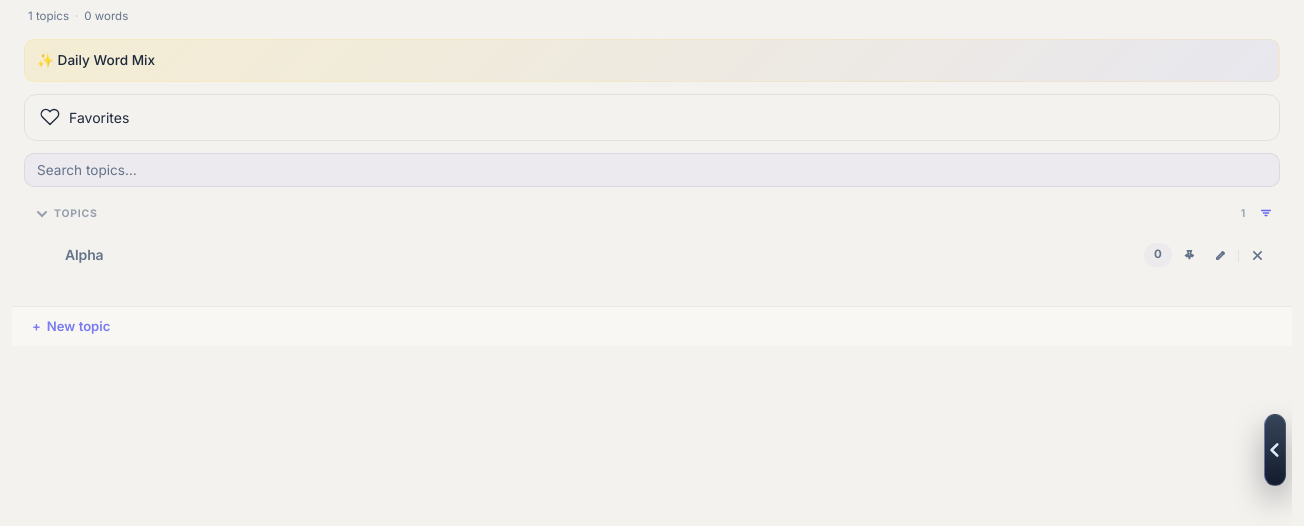
Test: TopicSidebar cache invalidation › shows backend topic-create conflict details instead of flattening them to a generic message
Click the button with aria-label "Create topic".
click(79, 326)  # box 12,307 -> 1292,346
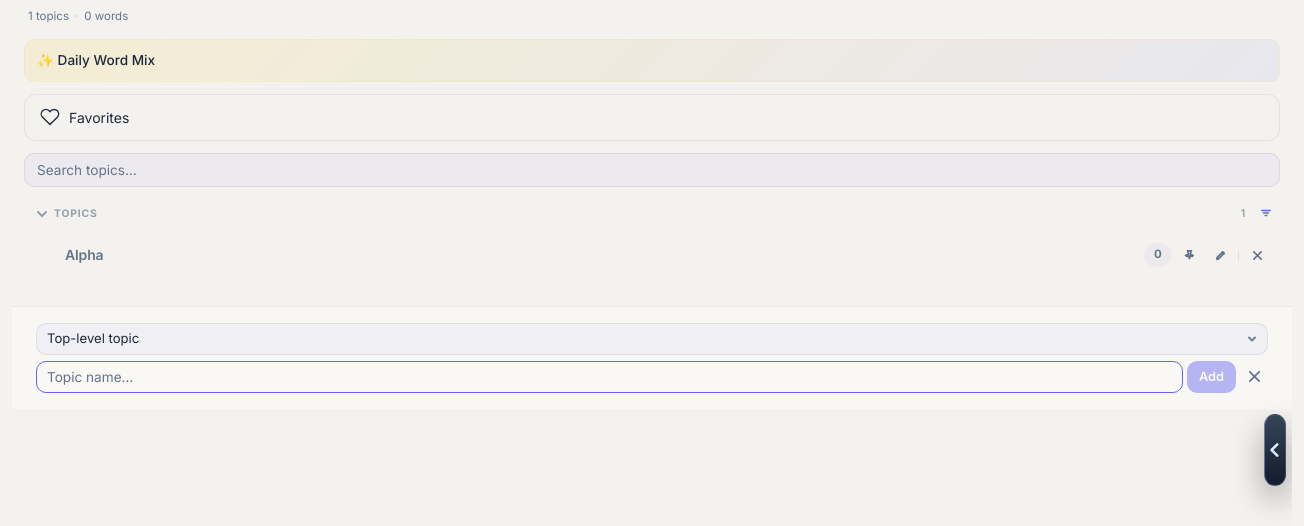
Type "Inbox" into the field with placeholder "Topic name…".
click(609, 377); type("Inbox")  # box 36,361 -> 1183,393
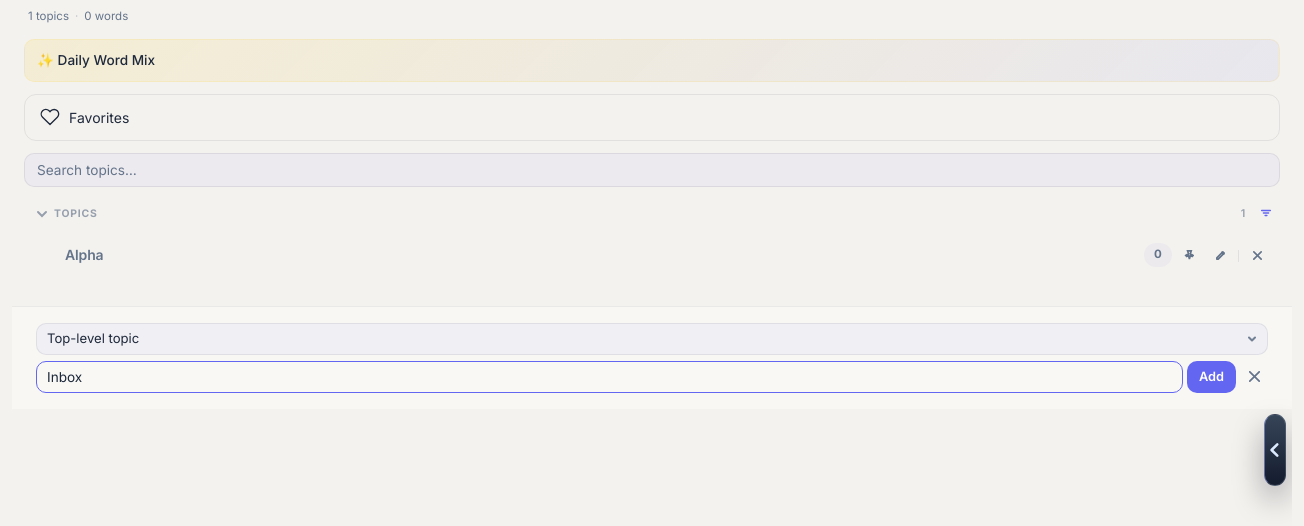
Click the button "Add".
click(1211, 377)  # box 1187,361 -> 1236,393
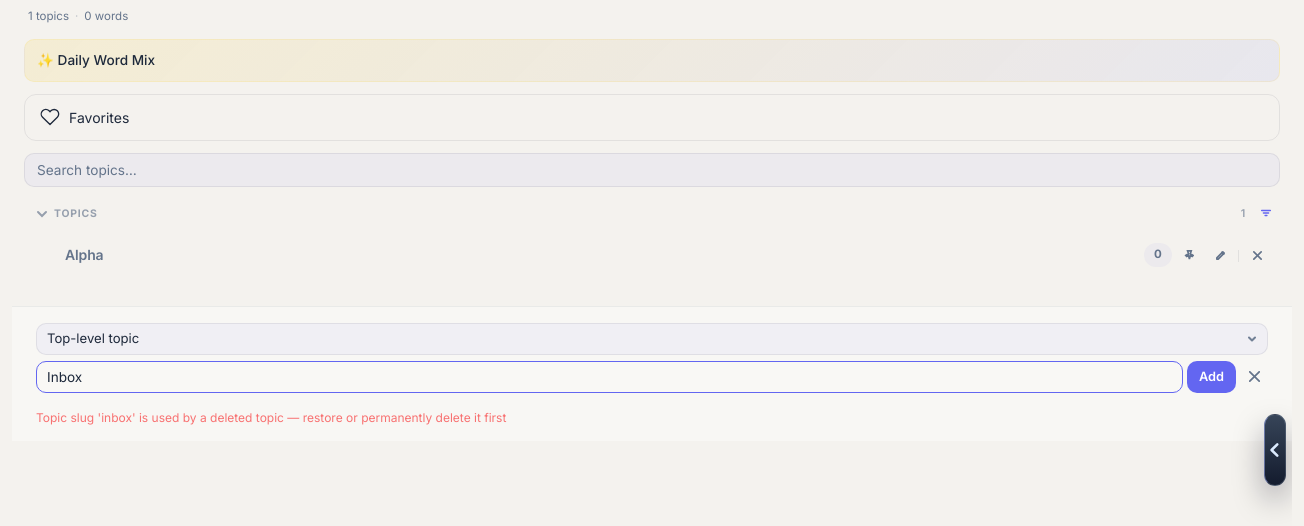
Now the text "Topic slug 'inbox' is used by a deleted topic — restore or permanently delete it first" is shown, box 36,410 -> 506,425
